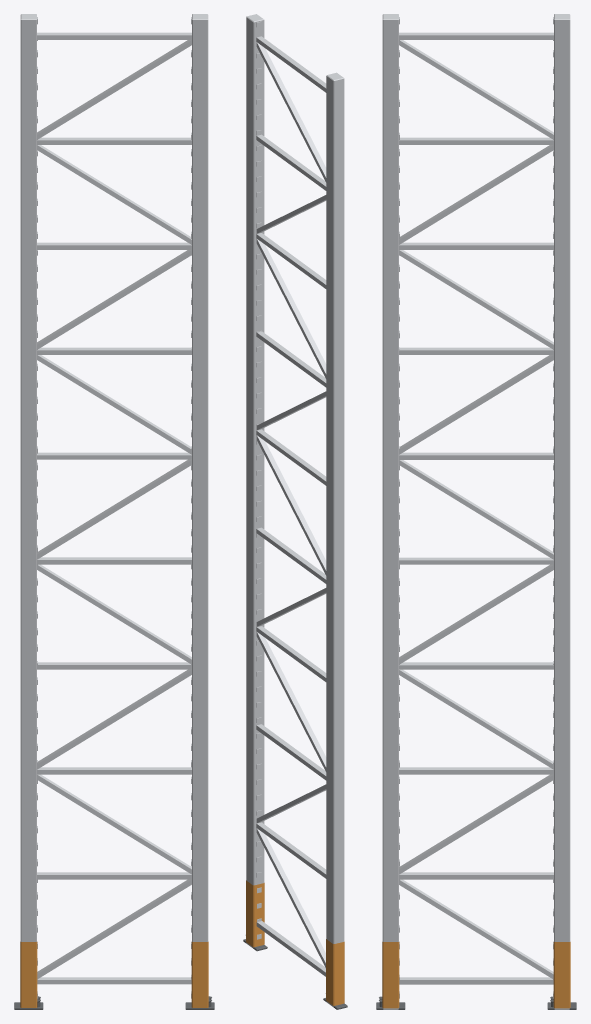
File: pallet-rack-upright-frame-6-m.glb
3 views of the same model, side by side, from view 1: azimuth 90°, elevation 25°; view 2: azimuth 210°, elevation 25°; view 3: azimuth 270°, elevation 25° (orthographic). The views are drawn at different scales.
Parts seen in each view (by area): view 1: pallet-rack-upright-frame-6m; view 2: pallet-rack-upright-frame-6m; view 3: pallet-rack-upright-frame-6m.
Part boxes in pixels (box(x1,y1,x2,y2)): pallet-rack-upright-frame-6m: box(14, 14, 214, 1009); pallet-rack-upright-frame-6m: box(243, 14, 347, 1009); pallet-rack-upright-frame-6m: box(376, 14, 576, 1009).
Size of the model in its own units: 0.079 by 6 by 1.1.
